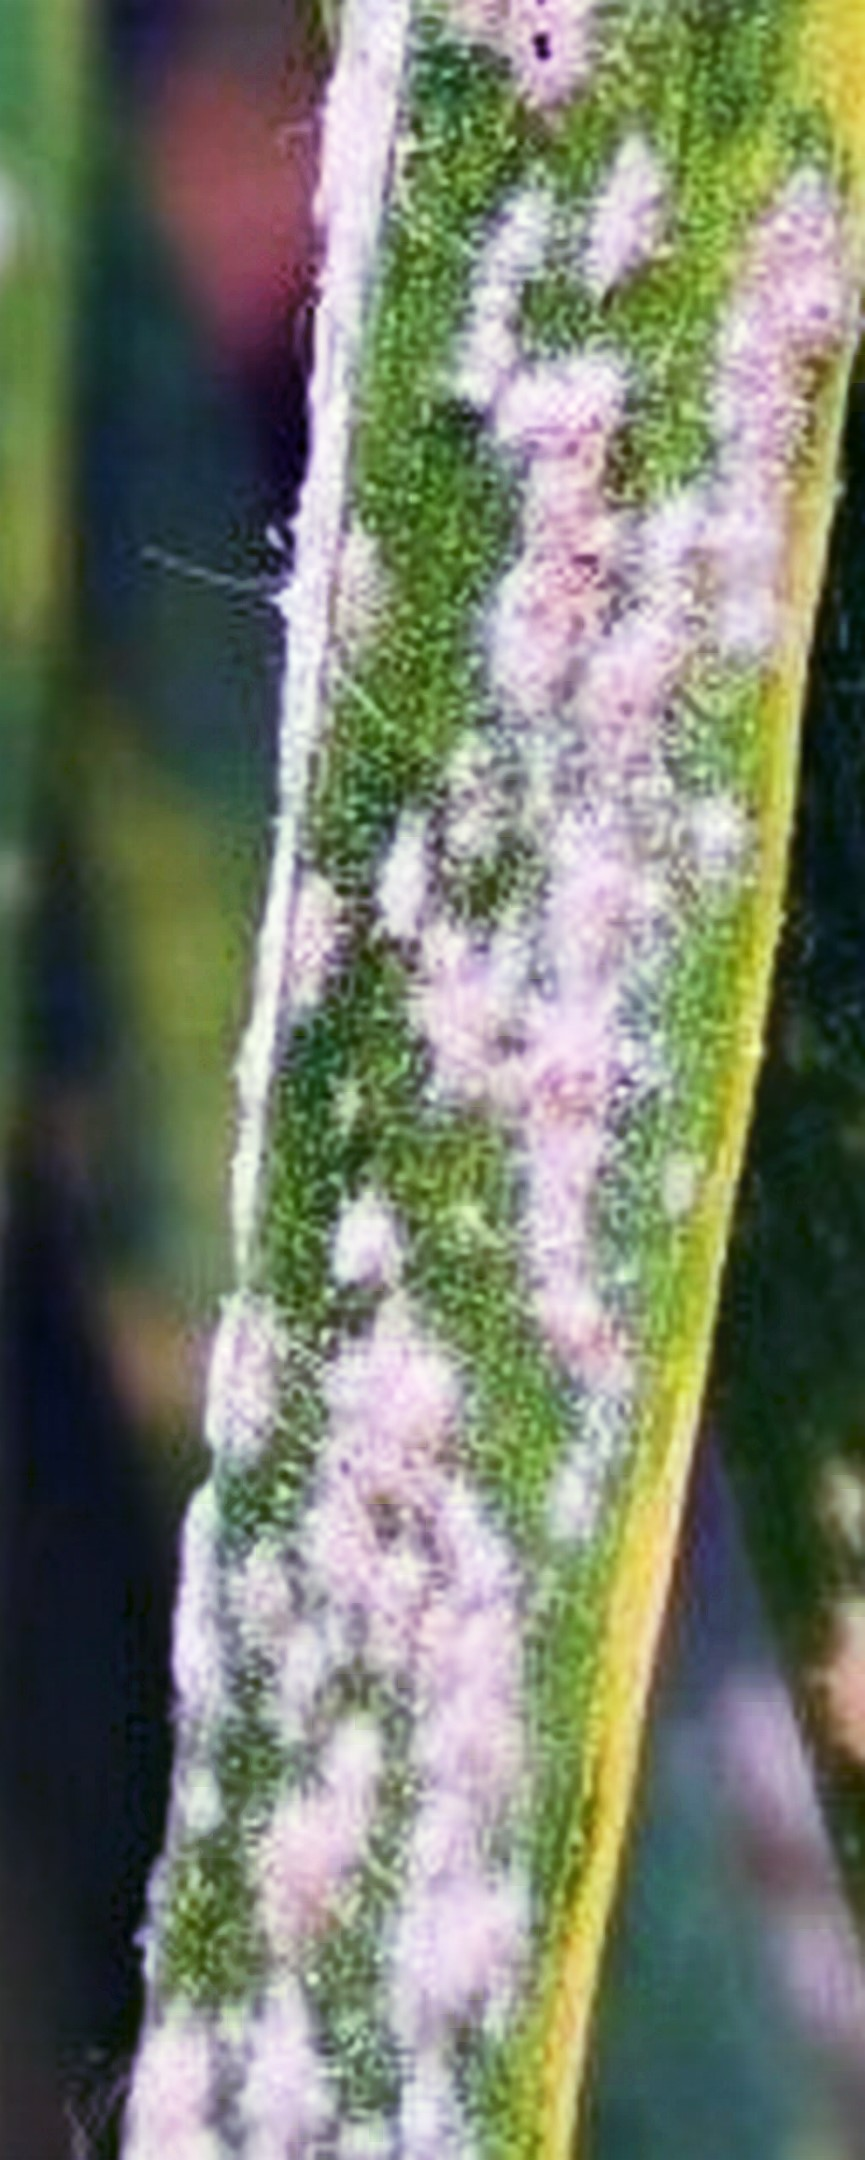Powdery Mildew: (180, 176, 865, 1942)
